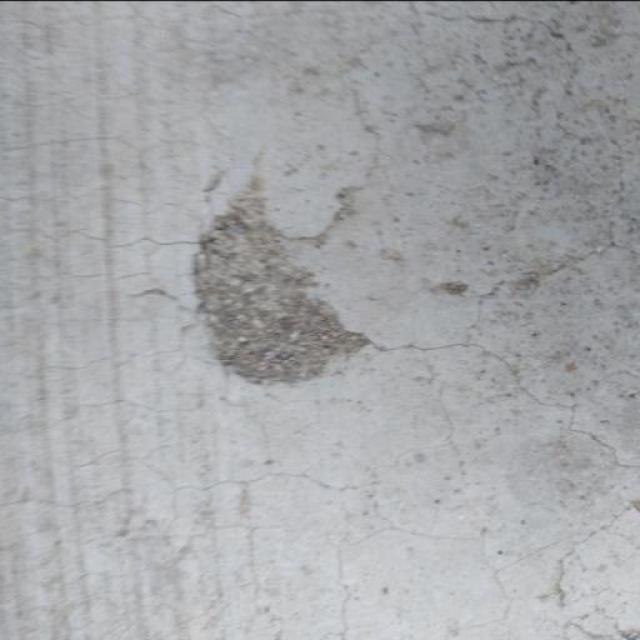D10: (191, 184, 366, 384)
